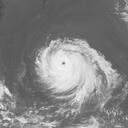cyclone: (35, 38, 101, 99)
